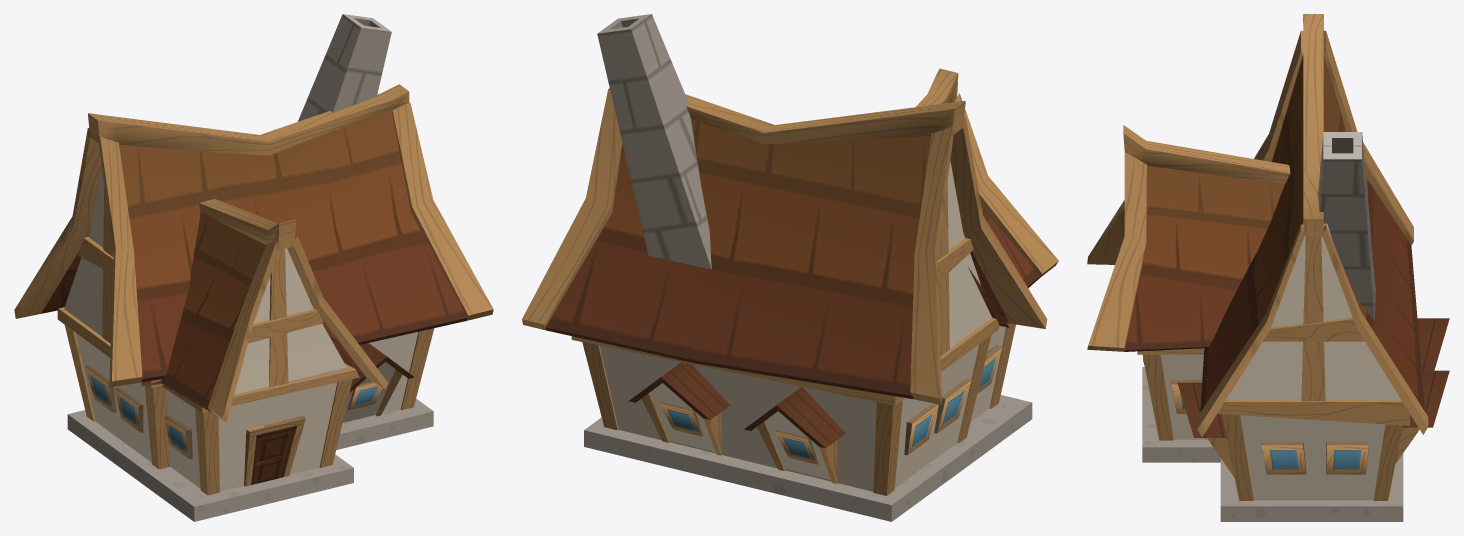
The model's file is building_house_lv3.FBX.
3 renders of one model, left to right at view 1: azimuth 30°, elevation 25°; view 2: azimuth 150°, elevation 25°; view 3: azimuth 270°, elevation 25°, orthographic. The views are drawn at different scales.
Visible parts, largest first — view 1: building_house_main_lv3, building_house_lv3, building_house_ground_lv3; view 2: building_house_main_lv3, building_house_lv3, building_house_ground_lv3; view 3: building_house_main_lv3, building_house_lv3, building_house_ground_lv3.
Part boxes in pixels (box(x1,y1,x2,y2)): building_house_main_lv3: box(64, 108, 467, 491); building_house_lv3: box(14, 14, 493, 495); building_house_ground_lv3: box(67, 398, 433, 521); building_house_main_lv3: box(545, 118, 1040, 491); building_house_lv3: box(522, 14, 1058, 495); building_house_ground_lv3: box(584, 395, 1032, 521); building_house_main_lv3: box(1125, 53, 1424, 500); building_house_lv3: box(1087, 14, 1449, 500); building_house_ground_lv3: box(1142, 367, 1403, 521).
Size of the model in its own units: 386 by 361 by 313.
